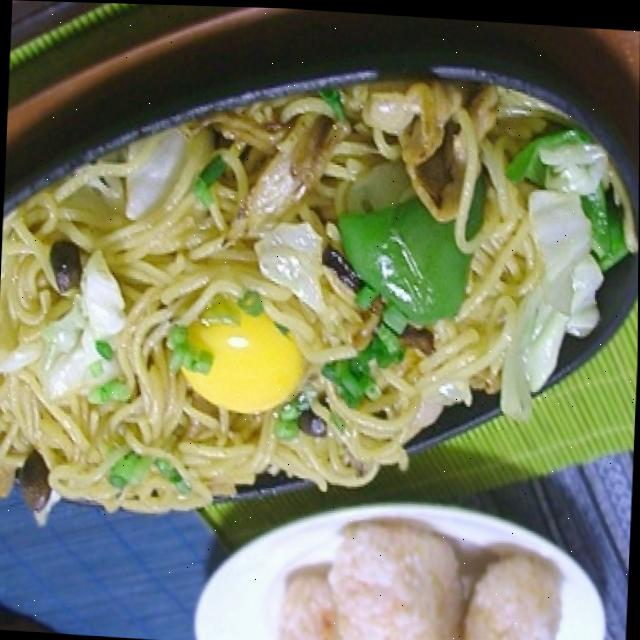面条主食: (0, 60, 640, 535)
